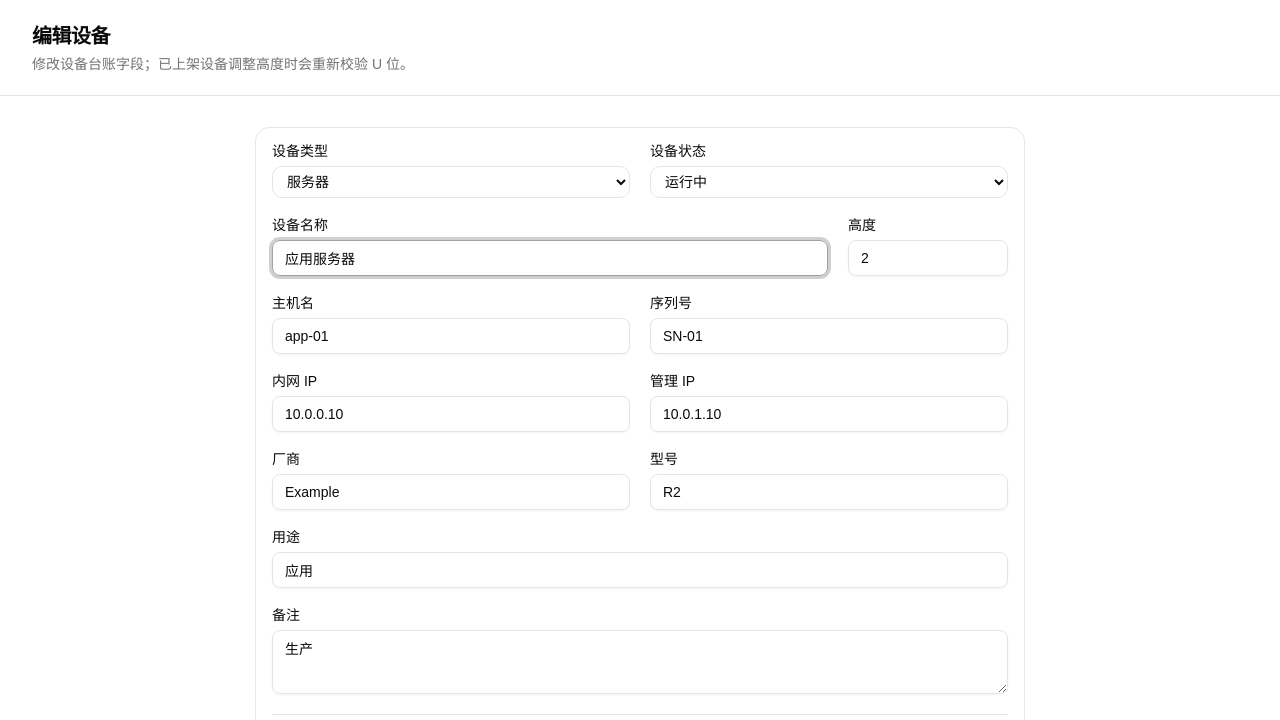
Test: entity edit forms › rejects malformed IP 999.1.1.1 before IPC
Expected: the field showing "应用服务器" is shown, [272,240,828,276]
Replace the text in the field labelled "管理 IP" with "999.1.1.1": point(829, 414) [650,396,1008,432]
(page scrolled)
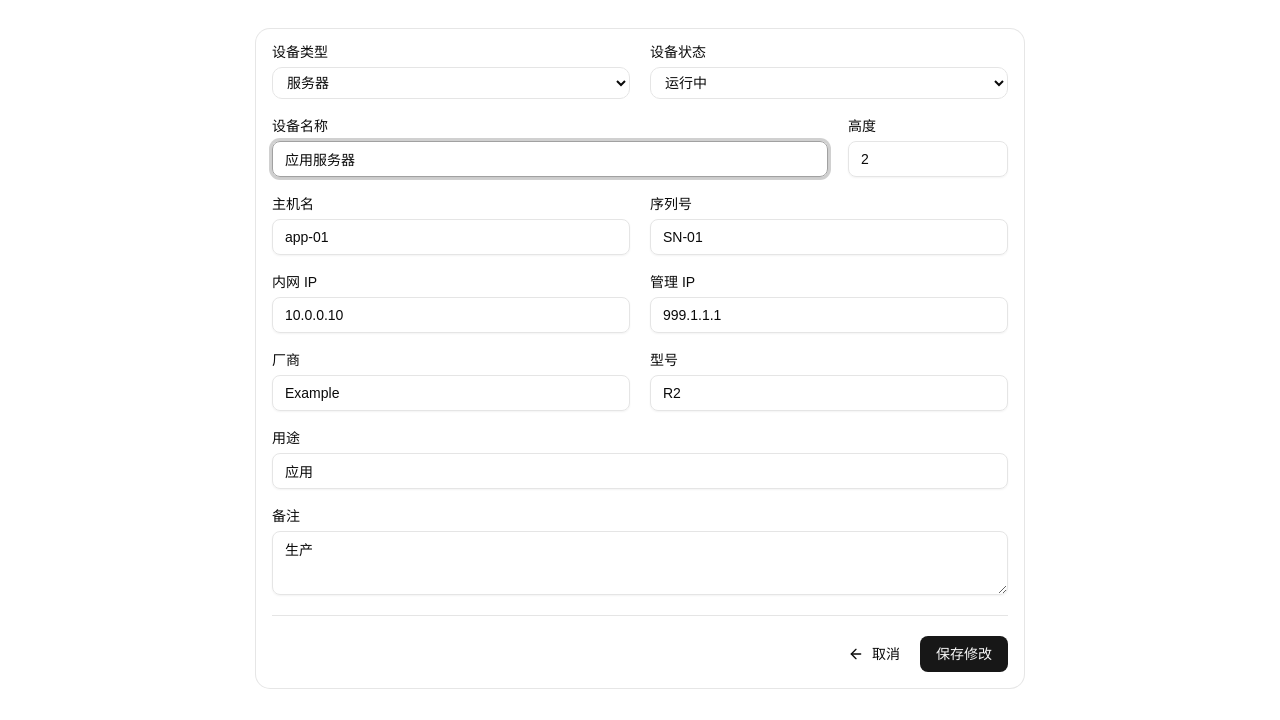
Click the button "保存修改": point(964, 654) [920,636,1008,672]
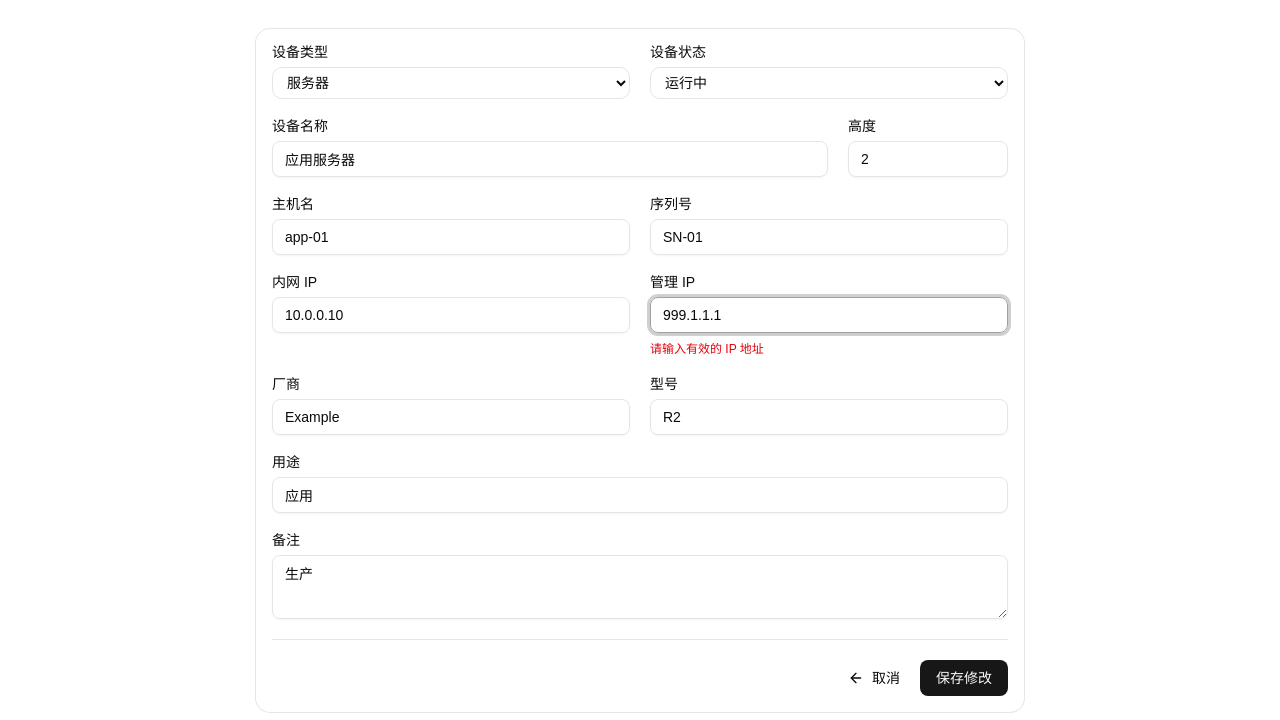
Expected: the text "请输入有效的 IP 地址" is shown, [650,342,764,356]
